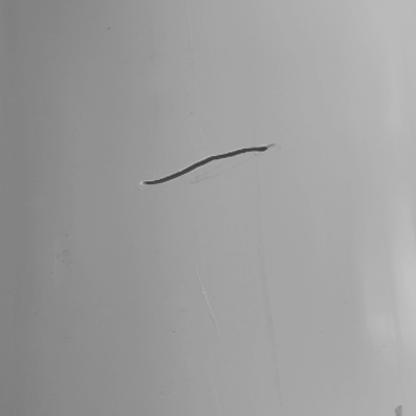fengxi: (137, 144, 272, 184)
